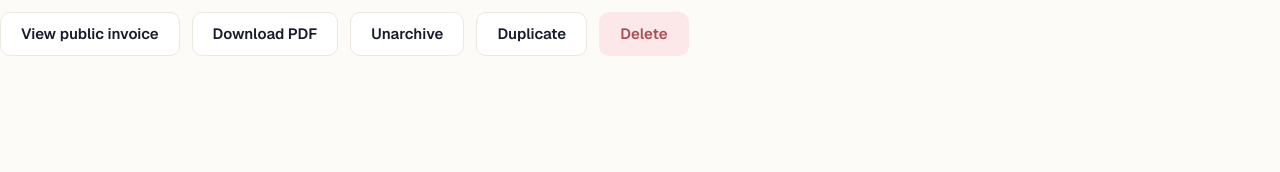
InvoiceActions — archived status › shows an error when Unarchive can't restore (prior status wasn't recorded)
What coordinates should you click on to do the following:
click the button "Unarchive"
I would click on:
 (407, 34)
Its box is x1=350 y1=12 x2=464 y2=56.
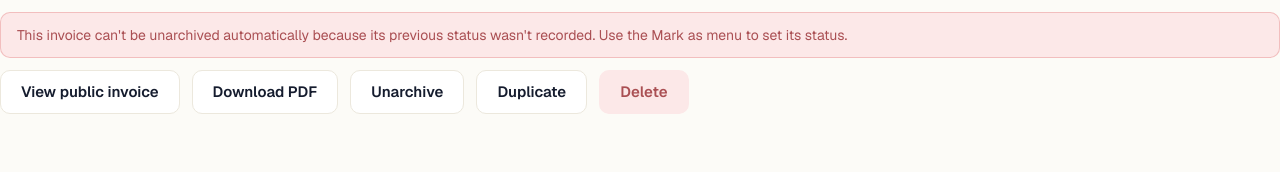
expect the text "previous status wasn't recorded" is shown: met, box x1=17 y1=26 x2=847 y2=44
